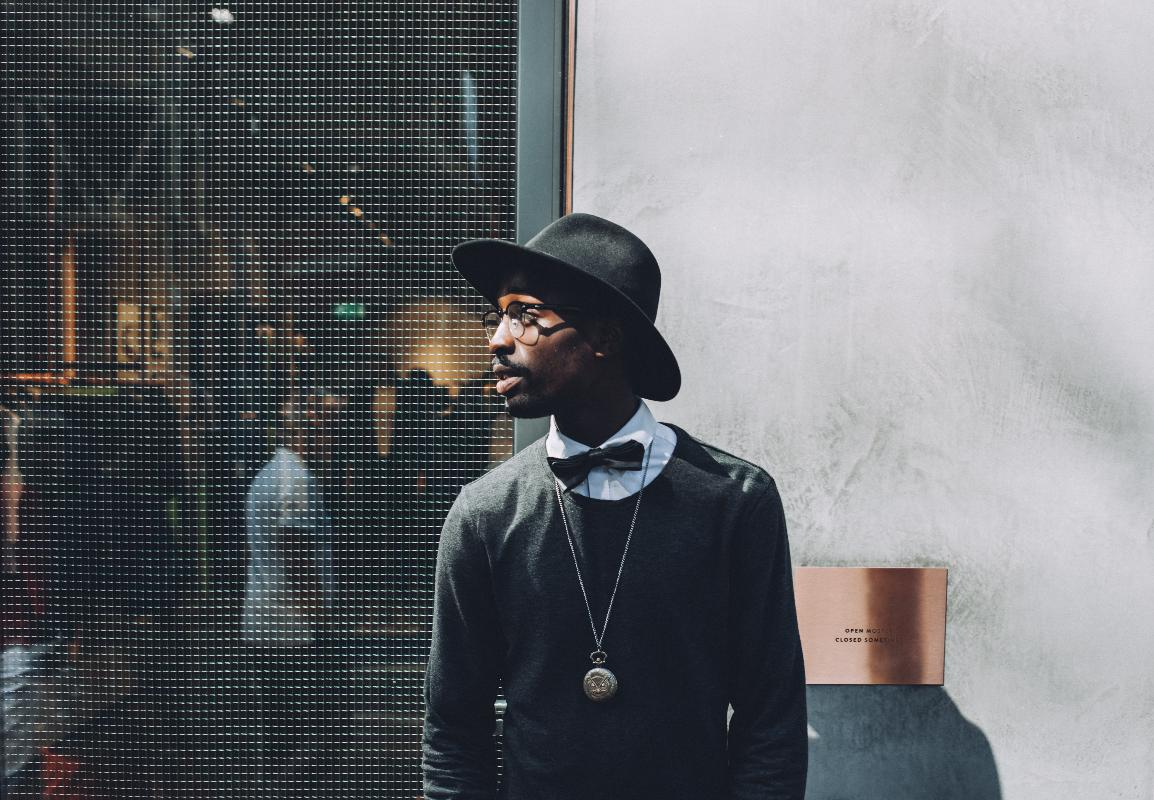Person: (415, 211, 812, 800)
